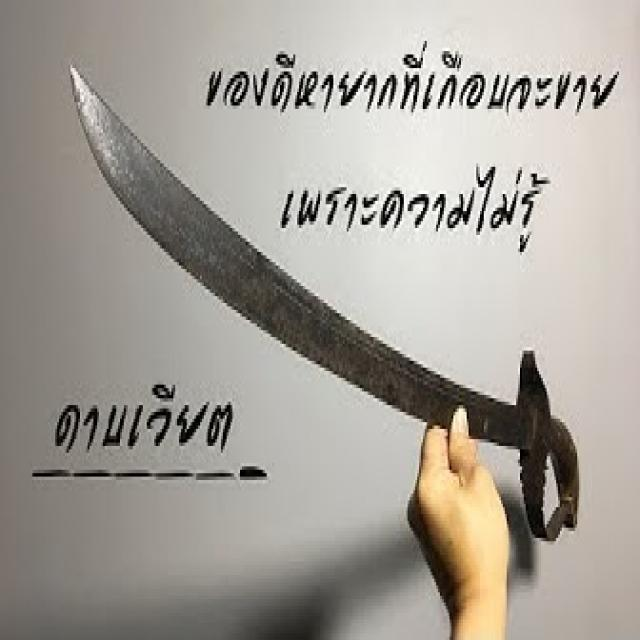long sword: (68, 59, 584, 549)
